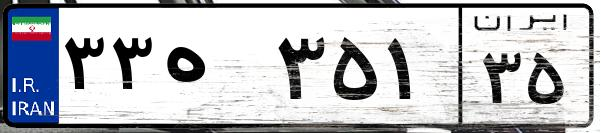1: (385, 28, 445, 110)
3: (270, 28, 330, 110), (57, 26, 110, 100), (475, 38, 525, 113), (110, 28, 158, 98)
5: (330, 28, 385, 110), (525, 38, 570, 115)
ه: (158, 20, 270, 120)
